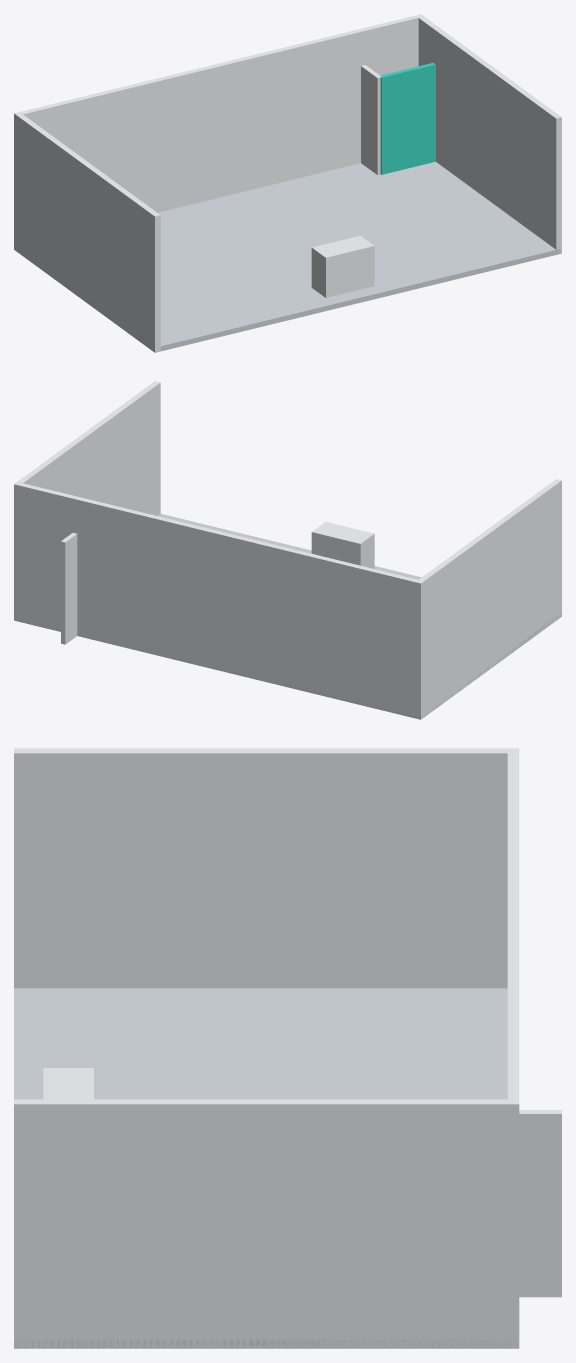
The picture shows the model from 3 angles, top to bottom: view 1: azimuth 30°, elevation 25°; view 2: azimuth 150°, elevation 25°; view 3: azimuth 270°, elevation 25°; orthographic projection. The views are drawn at different scales.
Visible parts, largest first — view 1: Exhibition Booth Concept; view 2: Exhibition Booth Concept; view 3: Exhibition Booth Concept.
Boxes of the visible parts, x1,y1,x2,y2 form: Exhibition Booth Concept: [14, 14, 561, 352]; Exhibition Booth Concept: [14, 381, 561, 719]; Exhibition Booth Concept: [14, 748, 561, 1348].
Bounding box in the file's own units: 10 × 3.2 × 6.51.
